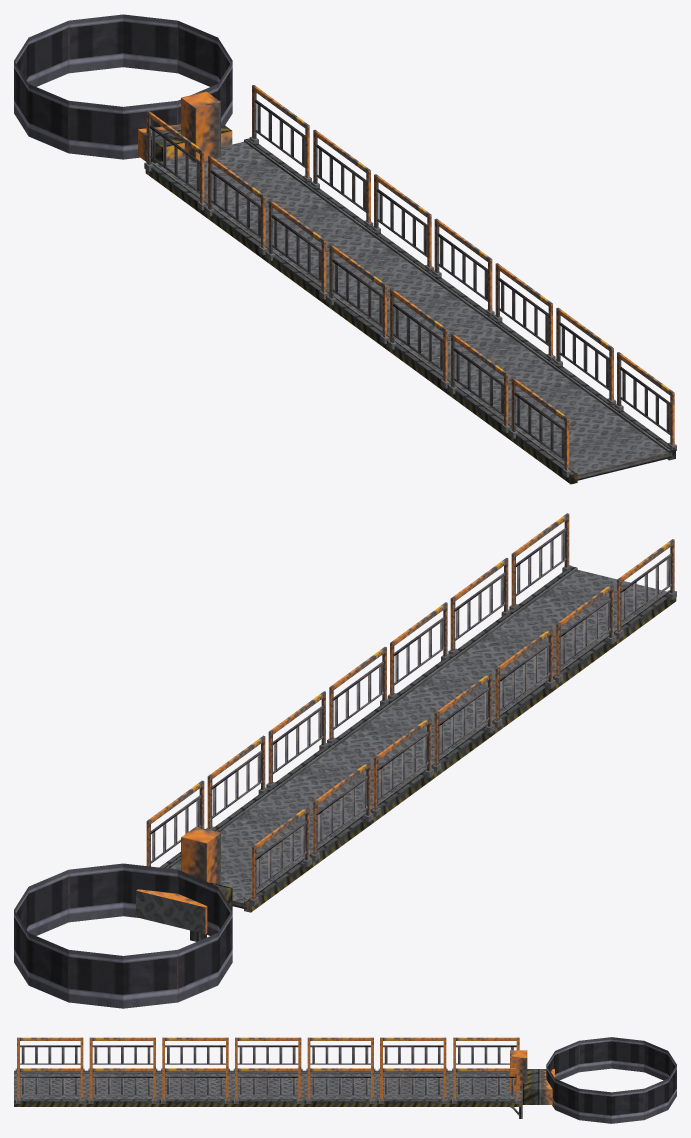
Rendered from MO_PLATAFORMA_GIRATORIA.fbx.
3 renders of one model, top to bottom at view 1: azimuth 30°, elevation 25°; view 2: azimuth 150°, elevation 25°; view 3: azimuth 270°, elevation 25°, orthographic. The views are drawn at different scales.
Parts seen in each view (by area): view 1: MO_PLATAFORMA_GIRATORIA; view 2: MO_PLATAFORMA_GIRATORIA; view 3: MO_PLATAFORMA_GIRATORIA.
Part boxes in pixels (box(x1,y1,x2,y2)): MO_PLATAFORMA_GIRATORIA: box(14, 14, 676, 484); MO_PLATAFORMA_GIRATORIA: box(14, 513, 676, 1008); MO_PLATAFORMA_GIRATORIA: box(14, 1037, 676, 1123).
Size of the model in its own units: 3.6 by 1.92 by 18.26.
